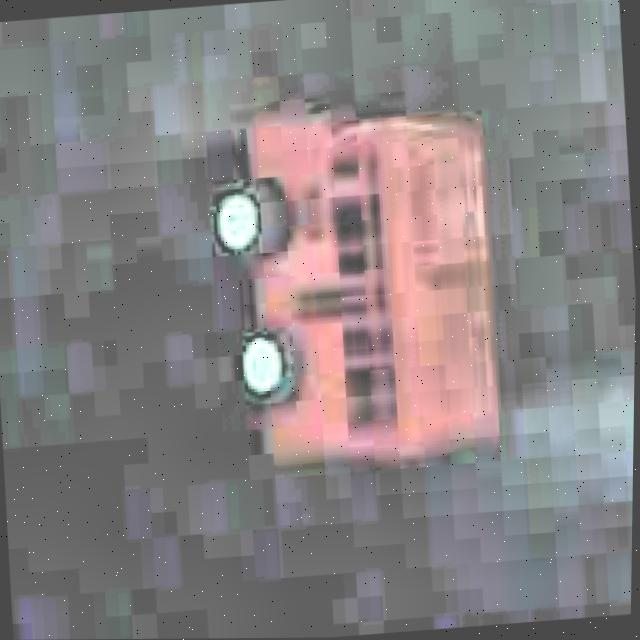bus: (194, 90, 517, 481)
